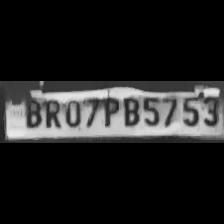0: (62, 96, 82, 128)
3: (200, 94, 220, 128)
5: (178, 94, 200, 126), (140, 94, 160, 126)
7: (83, 95, 101, 127), (160, 95, 178, 127)
B: (119, 93, 139, 127), (22, 97, 42, 128)
P: (99, 96, 119, 128)
R: (41, 97, 61, 129)
